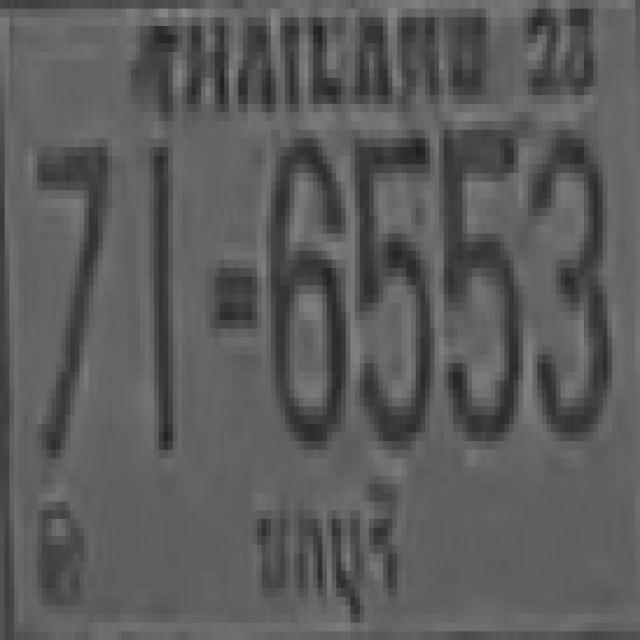1: (145, 138, 173, 450)
3: (528, 121, 607, 433)
5: (350, 126, 430, 446), (439, 121, 519, 433)
6: (266, 130, 341, 441)
7: (33, 138, 107, 450)
Chonburi: (248, 464, 408, 632)
